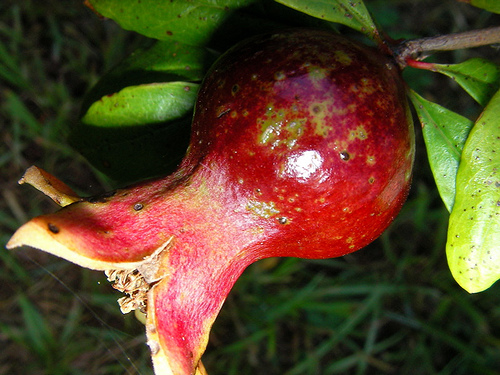pomogranate: (4, 30, 417, 374)
